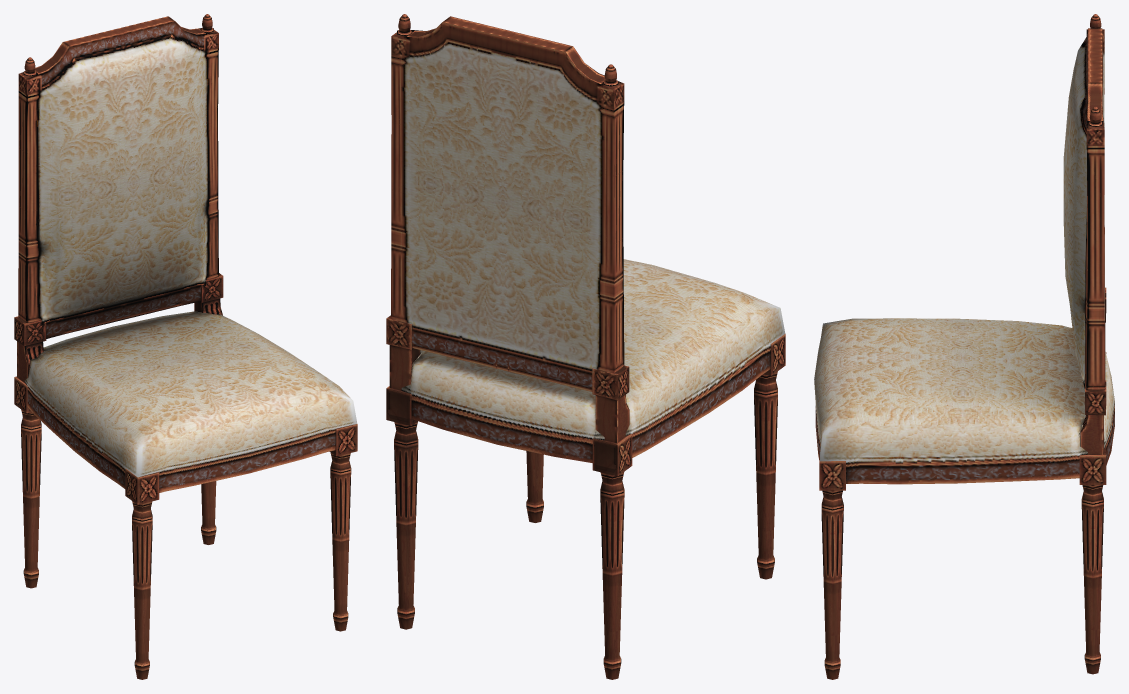
Rendered from Chair04B.FBX.
The picture shows the model from 3 angles, left to right: view 1: azimuth 30°, elevation 25°; view 2: azimuth 150°, elevation 25°; view 3: azimuth 270°, elevation 25°; orthographic projection. The views are drawn at different scales.
Parts seen in each view (by area): view 1: Chair04B; view 2: Chair04B; view 3: Chair04B.
Boxes of the visible parts, x1,y1,x2,y2 form: Chair04B: (14, 14, 357, 679); Chair04B: (386, 14, 785, 679); Chair04B: (814, 14, 1114, 679).
Bounding box in the file's own units: 66.73 × 73.56 × 154.
